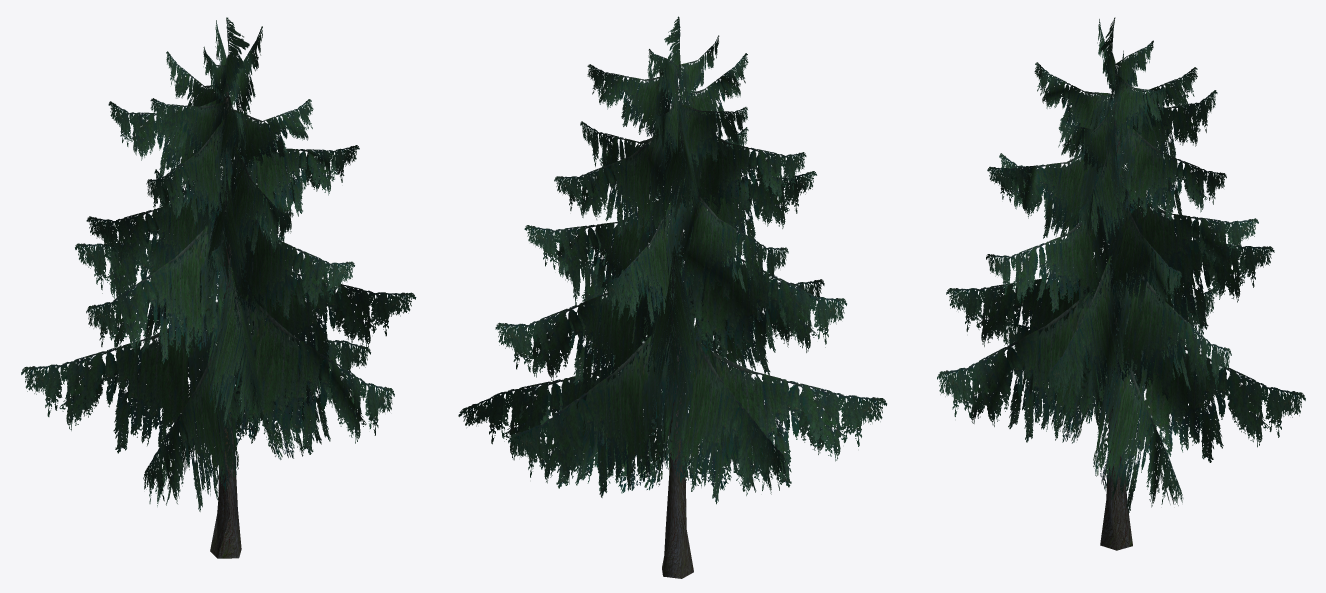
Rendered from obj__pinet1.obj.
The picture shows the model from 3 angles, left to right: view 1: azimuth 30°, elevation 25°; view 2: azimuth 150°, elevation 25°; view 3: azimuth 270°, elevation 25°; orthographic projection. The views are drawn at different scales.
Visible parts, largest first — view 1: pinet1.tga; view 2: pinet1.tga; view 3: pinet1.tga.
Boxes of the visible parts, box(x1,y1,x2,y2) form: pinet1.tga: box(21, 17, 416, 558); pinet1.tga: box(458, 16, 886, 578); pinet1.tga: box(937, 17, 1305, 550).
Size of the model in its own units: 135 by 197 by 131.
1 material, 1 textured.
